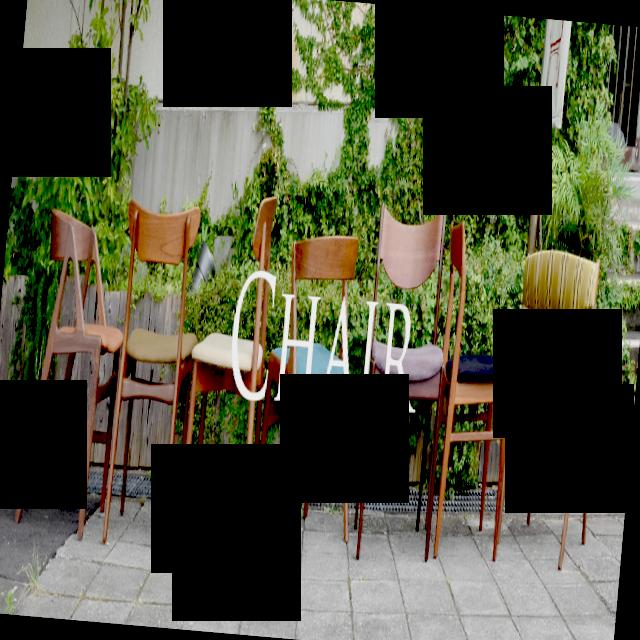chair vintage: (495, 220, 619, 578), (421, 200, 526, 570), (97, 194, 205, 543)
